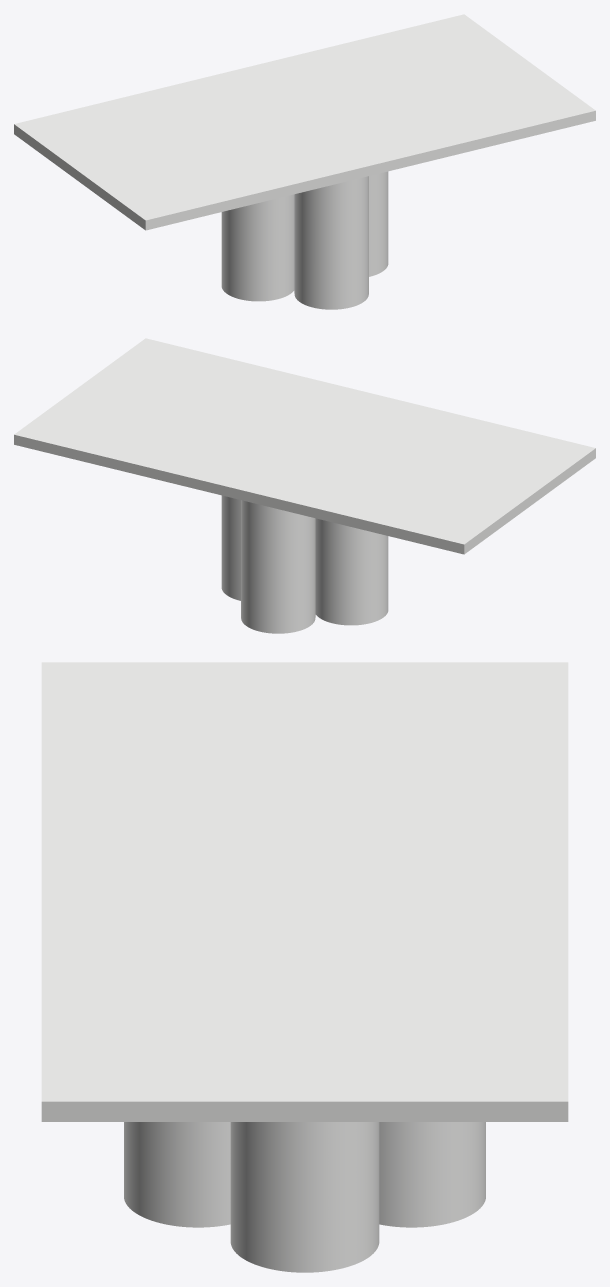
Rendered from purewhite_recta_standard_secondtable.glb.
3 renders of one model, top to bottom at view 1: azimuth 30°, elevation 25°; view 2: azimuth 150°, elevation 25°; view 3: azimuth 270°, elevation 25°, orthographic. The views are drawn at different scales.
Visible parts, largest first — view 1: standard_recta, secondtable; view 2: standard_recta, secondtable; view 3: standard_recta, secondtable.
Part boxes in pixels (x1=…): standard_recta: x1=14, y1=14, x2=595, y2=230; secondtable: x1=221, y1=171, x2=388, y2=309; standard_recta: x1=14, y1=338, x2=595, y2=554; secondtable: x1=221, y1=495, x2=388, y2=633; standard_recta: x1=41, y1=662, x2=568, y2=1121; secondtable: x1=124, y1=1122, x2=485, y2=1272.
Size of the model in its own units: 7.5 by 2.5 by 3.8.
1 material, 1 textured.
